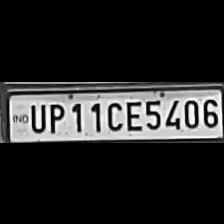0: (182, 95, 198, 127)
1: (67, 100, 85, 132), (85, 99, 103, 131)
4: (162, 96, 180, 128)
5: (143, 95, 161, 129)
6: (201, 94, 219, 128)
C: (102, 98, 122, 130)
E: (122, 97, 142, 130)
P: (45, 100, 65, 132)
U: (27, 100, 45, 132)
